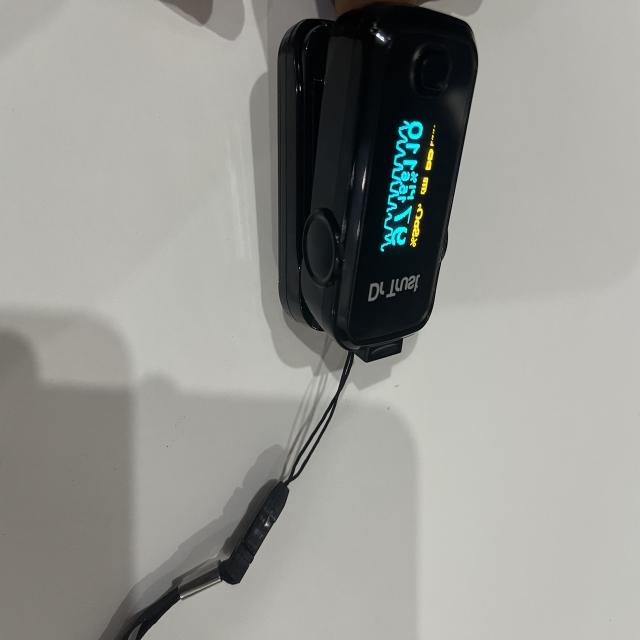spo2: (280, 6, 480, 364)
